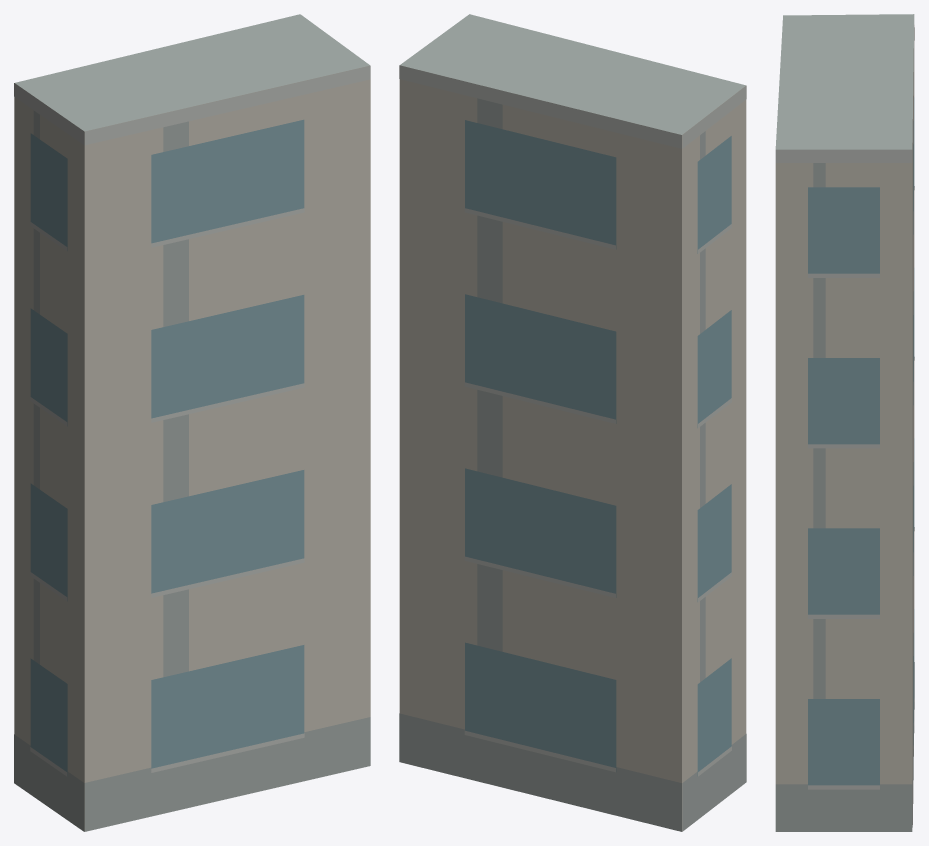
File: survey-upis-32623539.glb
3 views of the same model, side by side, from view 1: azimuth 30°, elevation 25°; view 2: azimuth 150°, elevation 25°; view 3: azimuth 270°, elevation 25° (orthographic). The views are drawn at different scales.
Parts seen in each view (by area): view 1: survey-upis-32623539.tmp; view 2: survey-upis-32623539.tmp; view 3: survey-upis-32623539.tmp.
Part boxes in pixels (x1,y1,x2,y2): survey-upis-32623539.tmp: (14, 14, 370, 831); survey-upis-32623539.tmp: (399, 14, 746, 831); survey-upis-32623539.tmp: (775, 14, 914, 831).
Size of the model in its own units: 5.21 by 12.2 by 2.26.
